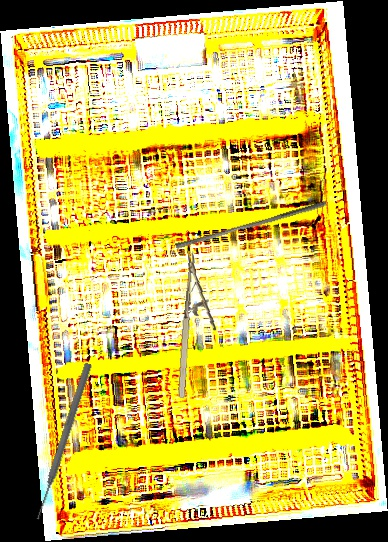Needle Holder: (173, 250, 224, 401)
Pusher: (32, 361, 94, 522), (175, 195, 327, 254)
